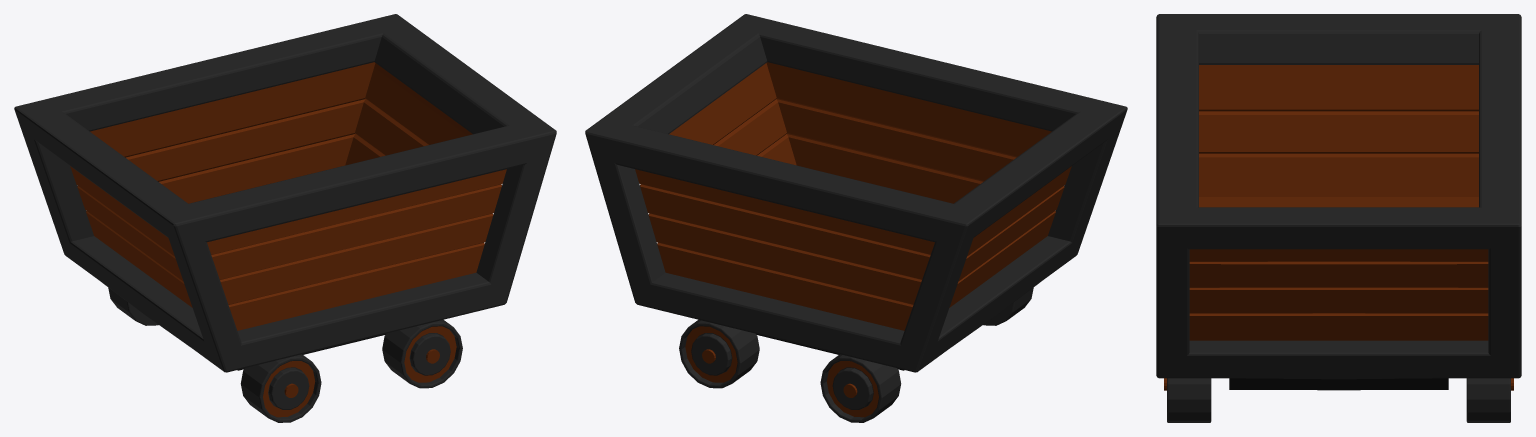
File: Minecart.obj
3 renders of one model, left to right at view 1: azimuth 30°, elevation 25°; view 2: azimuth 150°, elevation 25°; view 3: azimuth 270°, elevation 25°, orthographic. The views are drawn at different scales.
Visible parts, largest first — view 1: Mine_Cart; view 2: Mine_Cart; view 3: Mine_Cart.
Boxes of the visible parts, x1,y1,x2,y2 form: Mine_Cart: (14,14,556,422); Mine_Cart: (585,14,1127,422); Mine_Cart: (1156,14,1521,422).
Bounding box in the file's own units: 1.3 × 0.7503 × 0.9497.
